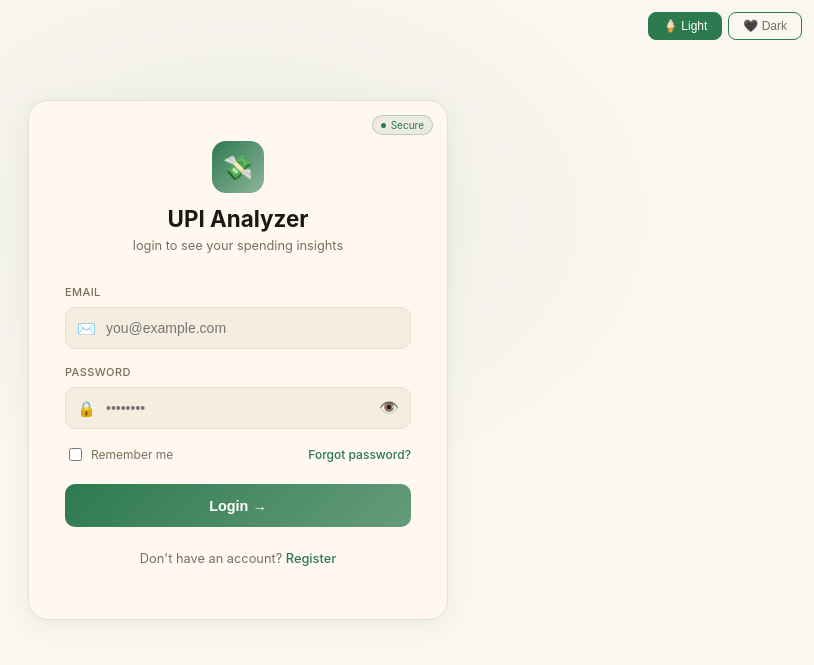
Test case: Login page › shows the message from the API when credentials are wrong
Type "kittu@test.com" into the field with placeholder "you@example.com" at (238, 328), box [65,307,411,349]
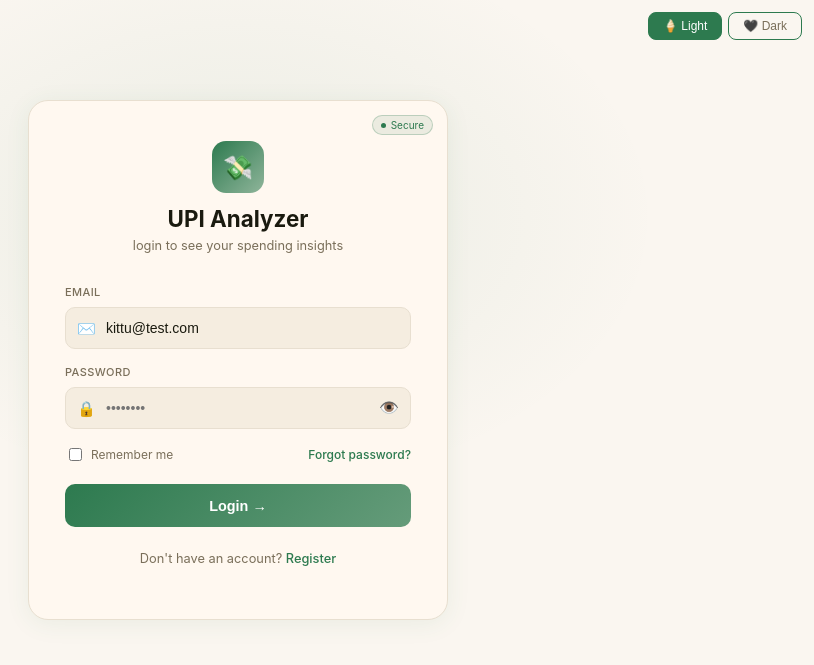
Type "wrong" into the password field with placeholder "••••••••" at (238, 408), box [65,387,411,429]
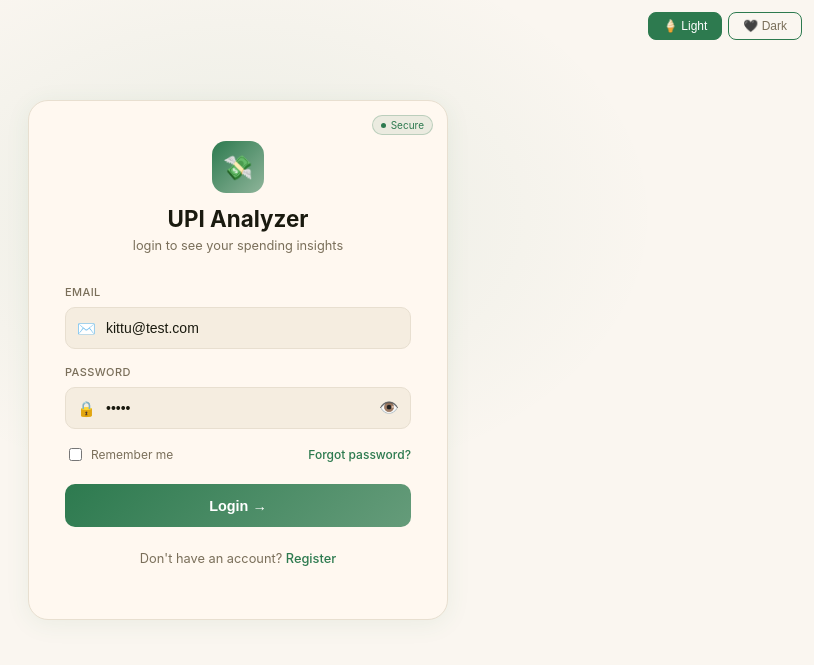
Click the button "Login →" at (238, 506), box [65,484,411,527]
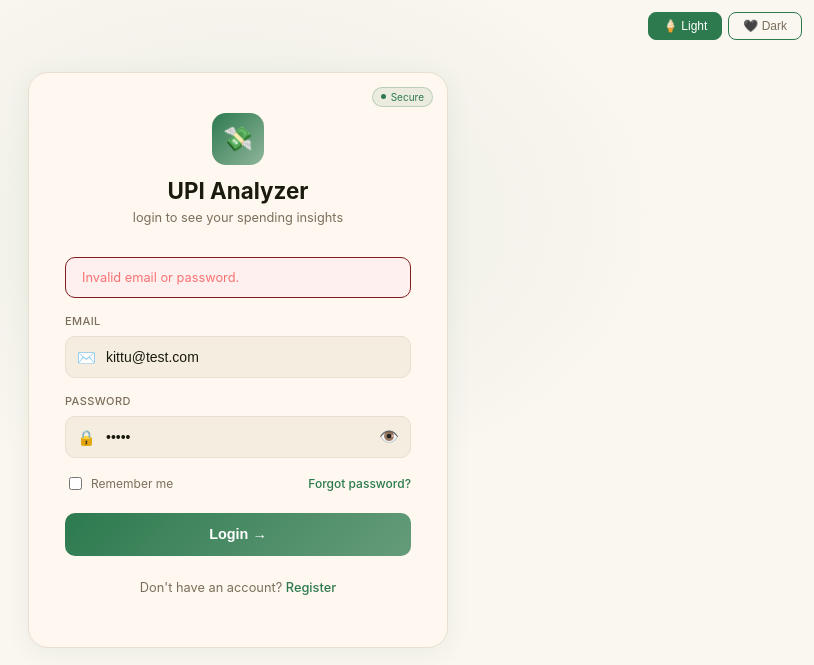
Check: the text "Invalid email or password." is shown, box [65,256,411,298]
